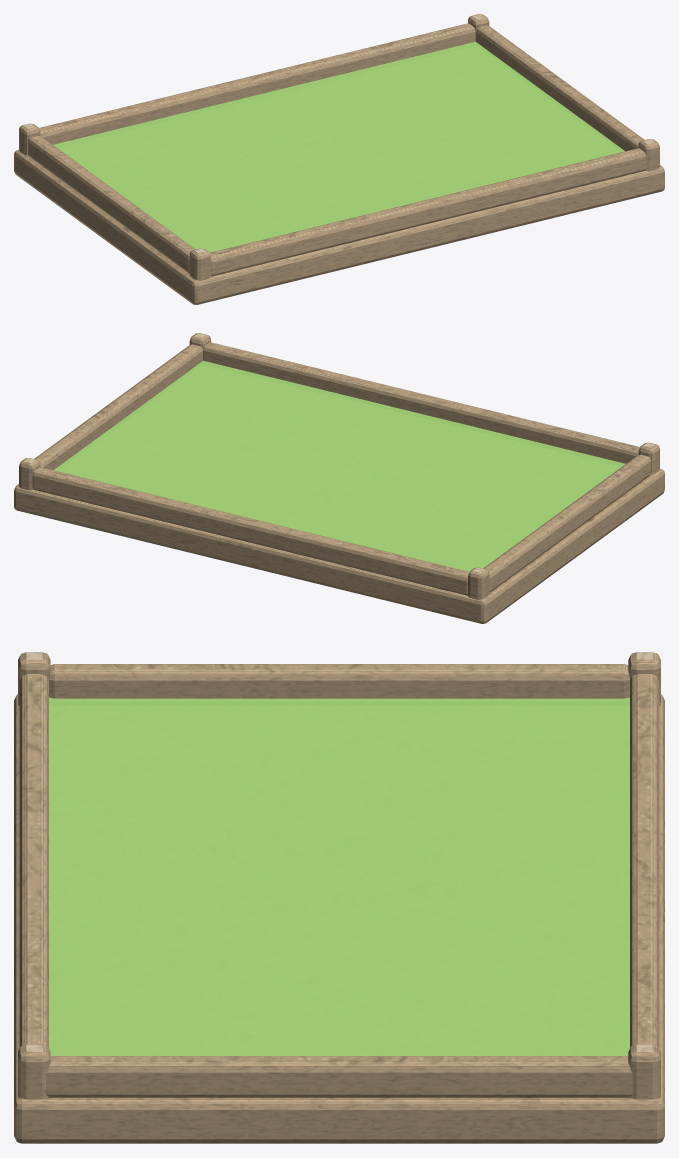
File: Board.fbx
3 views of the same model, one above another, from view 1: azimuth 30°, elevation 25°; view 2: azimuth 150°, elevation 25°; view 3: azimuth 270°, elevation 25° (orthographic). The views are drawn at different scales.
Parts seen in each view (by area): view 1: Border_Surface, Board_Base; view 2: Border_Surface, Board_Base; view 3: Border_Surface, Board_Base.
Boxes of the visible parts, <box> form: Border_Surface: <box>53,41,624,252</box>; Board_Base: <box>14,14,664,304</box>; Border_Surface: <box>54,360,625,571</box>; Board_Base: <box>14,333,664,623</box>; Border_Surface: <box>49,697,629,1055</box>; Board_Base: <box>14,652,664,1143</box>.
Bounding box in the file's own units: 1200 × 120 × 800.
